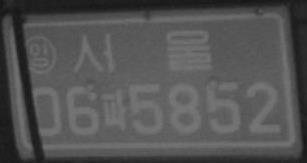0: (28, 85, 61, 137)
2: (246, 81, 282, 134)
5: (205, 78, 242, 135), (128, 83, 164, 136)
6: (65, 85, 100, 136)
8: (167, 81, 202, 136)
서울_D: (71, 29, 214, 74)
영: (22, 34, 57, 75)
파: (100, 88, 126, 131)
